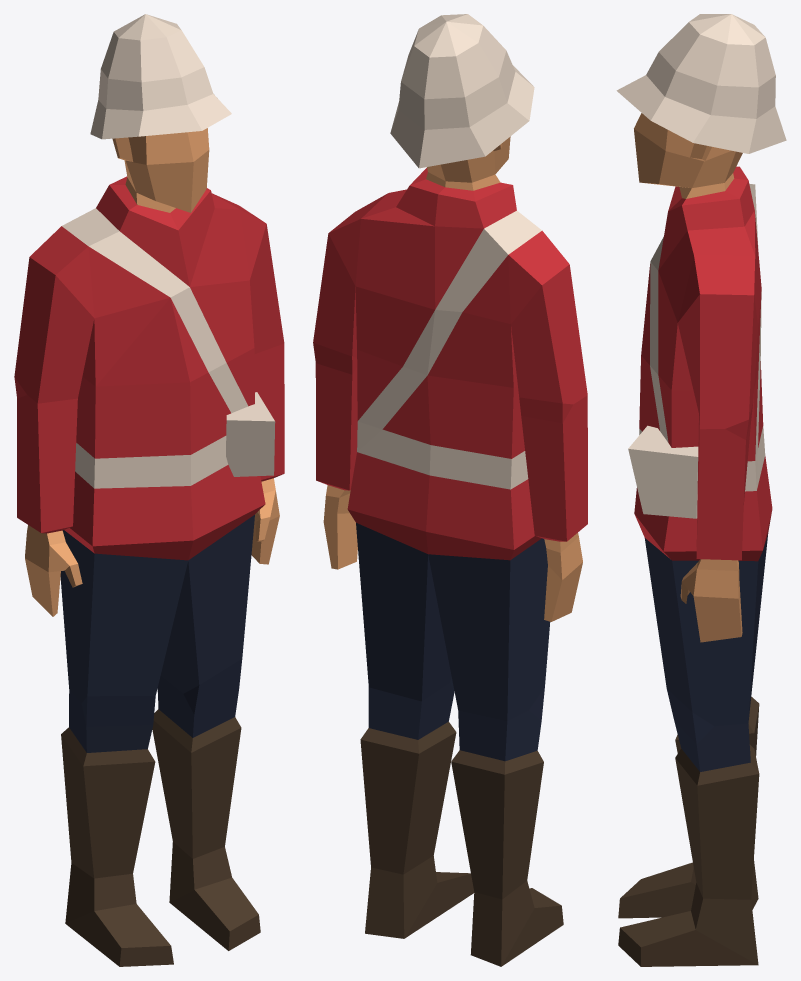
Rendered from man-zulu-uk.fbx.
The picture shows the model from 3 angles, left to right: view 1: azimuth 30°, elevation 25°; view 2: azimuth 150°, elevation 25°; view 3: azimuth 270°, elevation 25°; orthographic projection.
Visible parts, largest first — view 1: man-zulu-uk; view 2: man-zulu-uk; view 3: man-zulu-uk.
Part boxes in pixels (box(x1,y1,x2,y2)): man-zulu-uk: box(14, 14, 284, 966); man-zulu-uk: box(313, 14, 587, 966); man-zulu-uk: box(616, 14, 786, 966).
Size of the model in its own units: 0.5439 by 1.9 by 0.3199.
